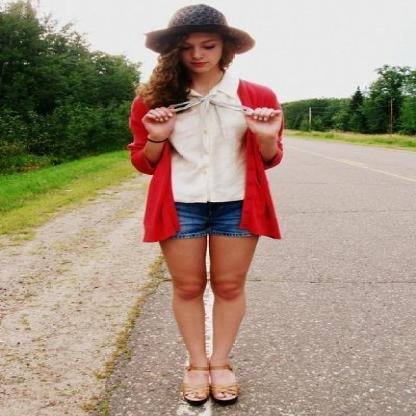hat: (146, 4, 252, 58)
jacket: (127, 80, 280, 240)
shirt: (171, 81, 254, 203)
shorts: (174, 200, 249, 407)
